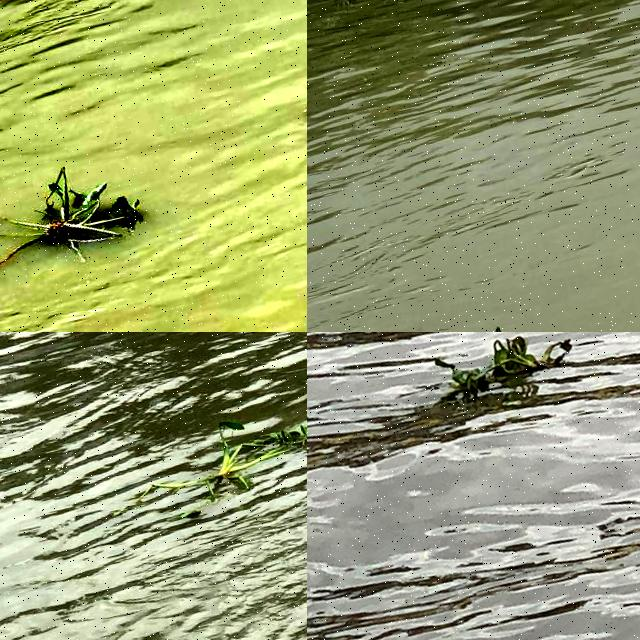water-hyacinth: (1, 149, 163, 292), (120, 397, 308, 519), (427, 333, 572, 405)
